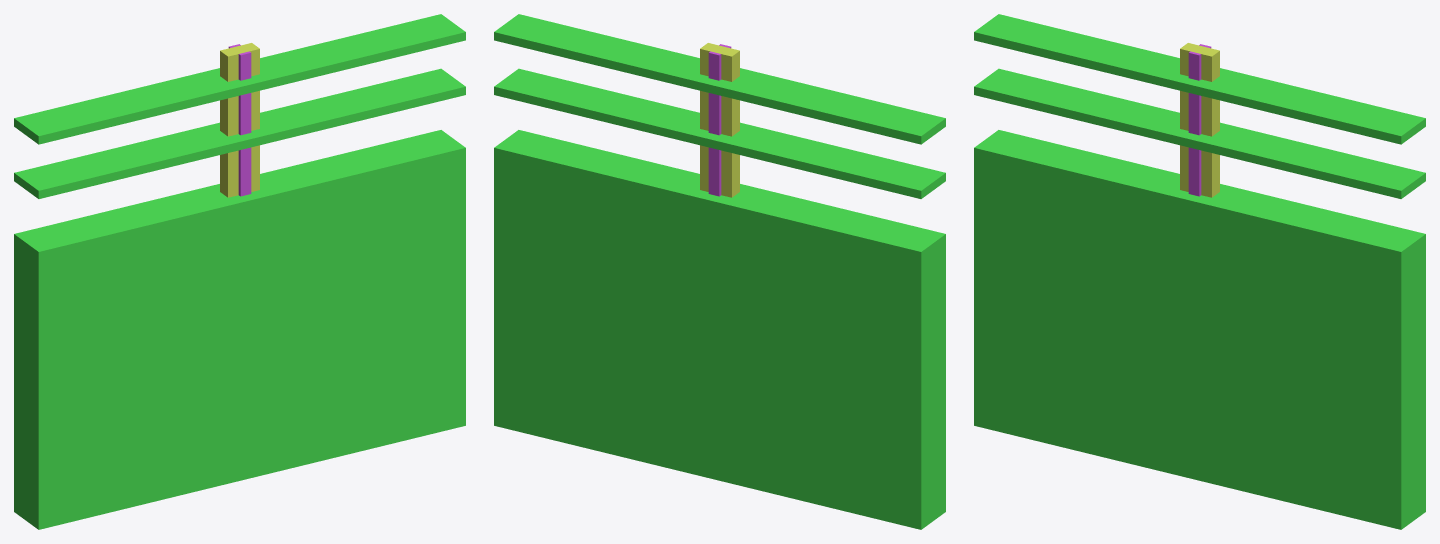
The model's file is Partition_Wall_01_C.fbx.
The picture shows the model from 3 angles, left to right: view 1: azimuth 30°, elevation 25°; view 2: azimuth 150°, elevation 25°; view 3: azimuth 330°, elevation 25°; orthographic projection.
Parts seen in each view (by area): view 1: Partition_Wall_01_C; view 2: Partition_Wall_01_C; view 3: Partition_Wall_01_C.
Boxes of the visible parts, x1,y1,x2,y2 form: Partition_Wall_01_C: (14,14,465,529); Partition_Wall_01_C: (494,14,945,529); Partition_Wall_01_C: (974,14,1425,529).
Size of the model in its own units: 91.44 by 85.72 by 9.14.
